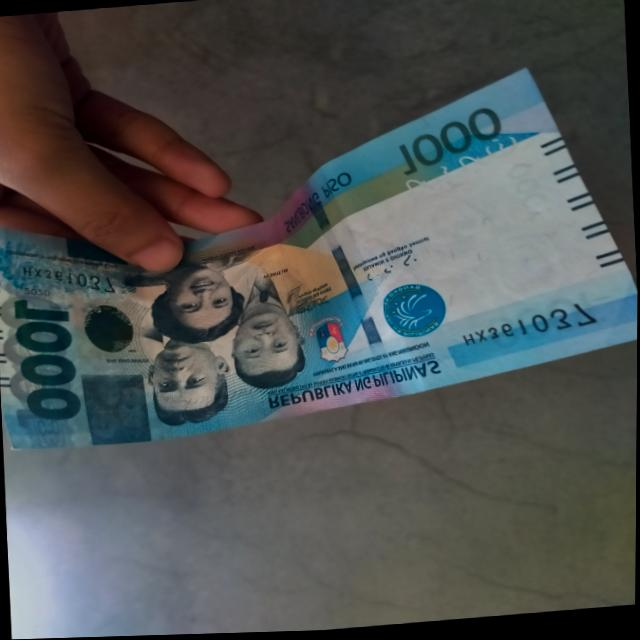concealed_value: (79, 370, 156, 450)
optically_variable_device: (67, 288, 153, 368)
security_thread: (306, 178, 403, 408)
see_through_mark: (395, 129, 526, 207)
serial_number: (451, 299, 605, 359), (12, 253, 130, 304)
value_watermark: (509, 160, 573, 235)
